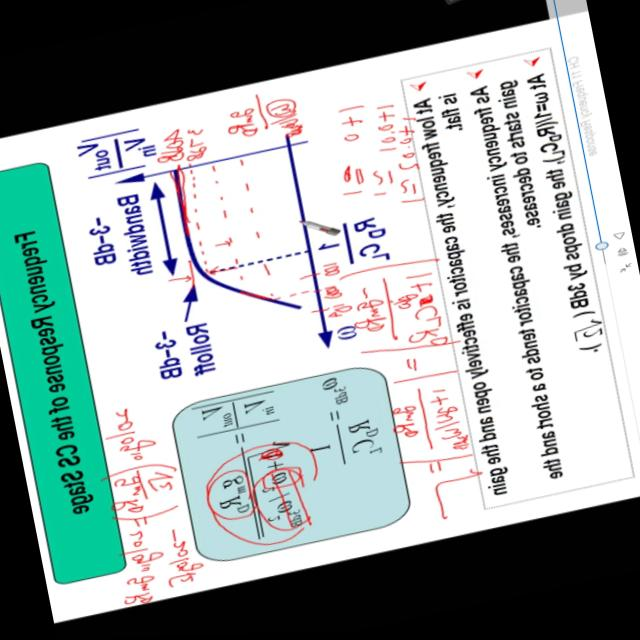panseo: (140, 79, 357, 363), (333, 242, 510, 542), (77, 377, 214, 611), (315, 79, 451, 235)
